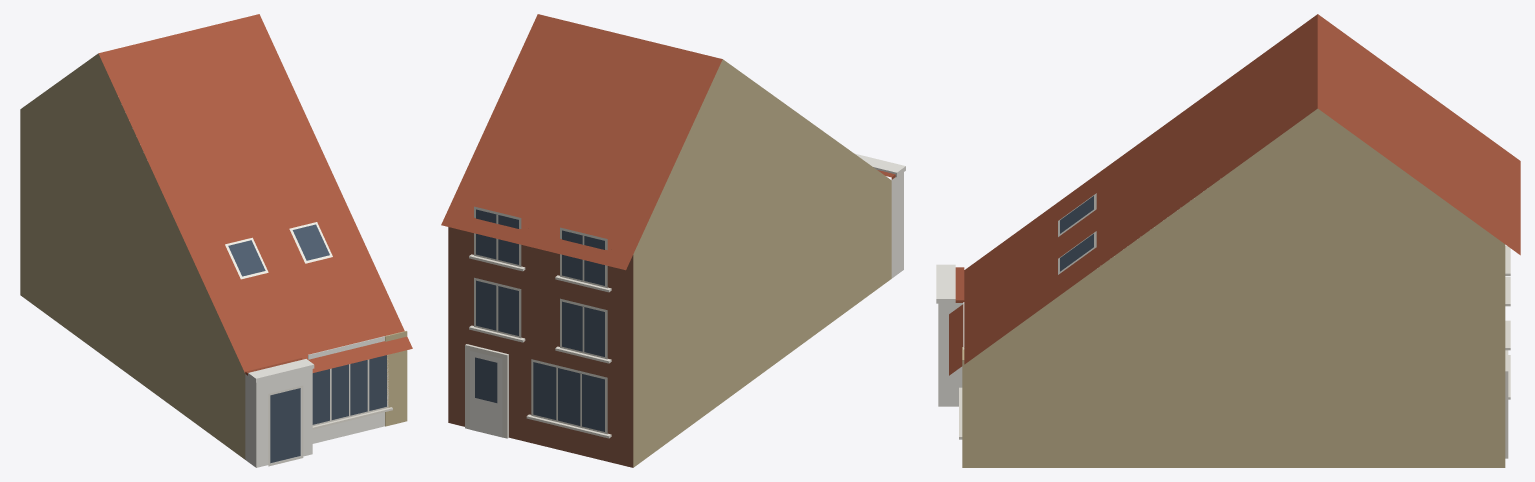
The model's file is zo-g4-roof-house__orange__3__gable__long__solid.glb.
3 renders of one model, left to right at view 1: azimuth 30°, elevation 25°; view 2: azimuth 150°, elevation 25°; view 3: azimuth 270°, elevation 25°, orthographic. The views are drawn at different scales.
Visible parts, largest first — view 1: zo-g4-roof-house__orange__3__gable__long__solid; view 2: zo-g4-roof-house__orange__3__gable__long__solid; view 3: zo-g4-roof-house__orange__3__gable__long__solid.
Boxes of the visible parts, bbox=[...] form: zo-g4-roof-house__orange__3__gable__long__solid: bbox=[20, 14, 412, 467]; zo-g4-roof-house__orange__3__gable__long__solid: bbox=[441, 14, 905, 467]; zo-g4-roof-house__orange__3__gable__long__solid: bbox=[936, 14, 1520, 467].
Size of the model in its own units: 5.18 by 9.14 by 13.5.
